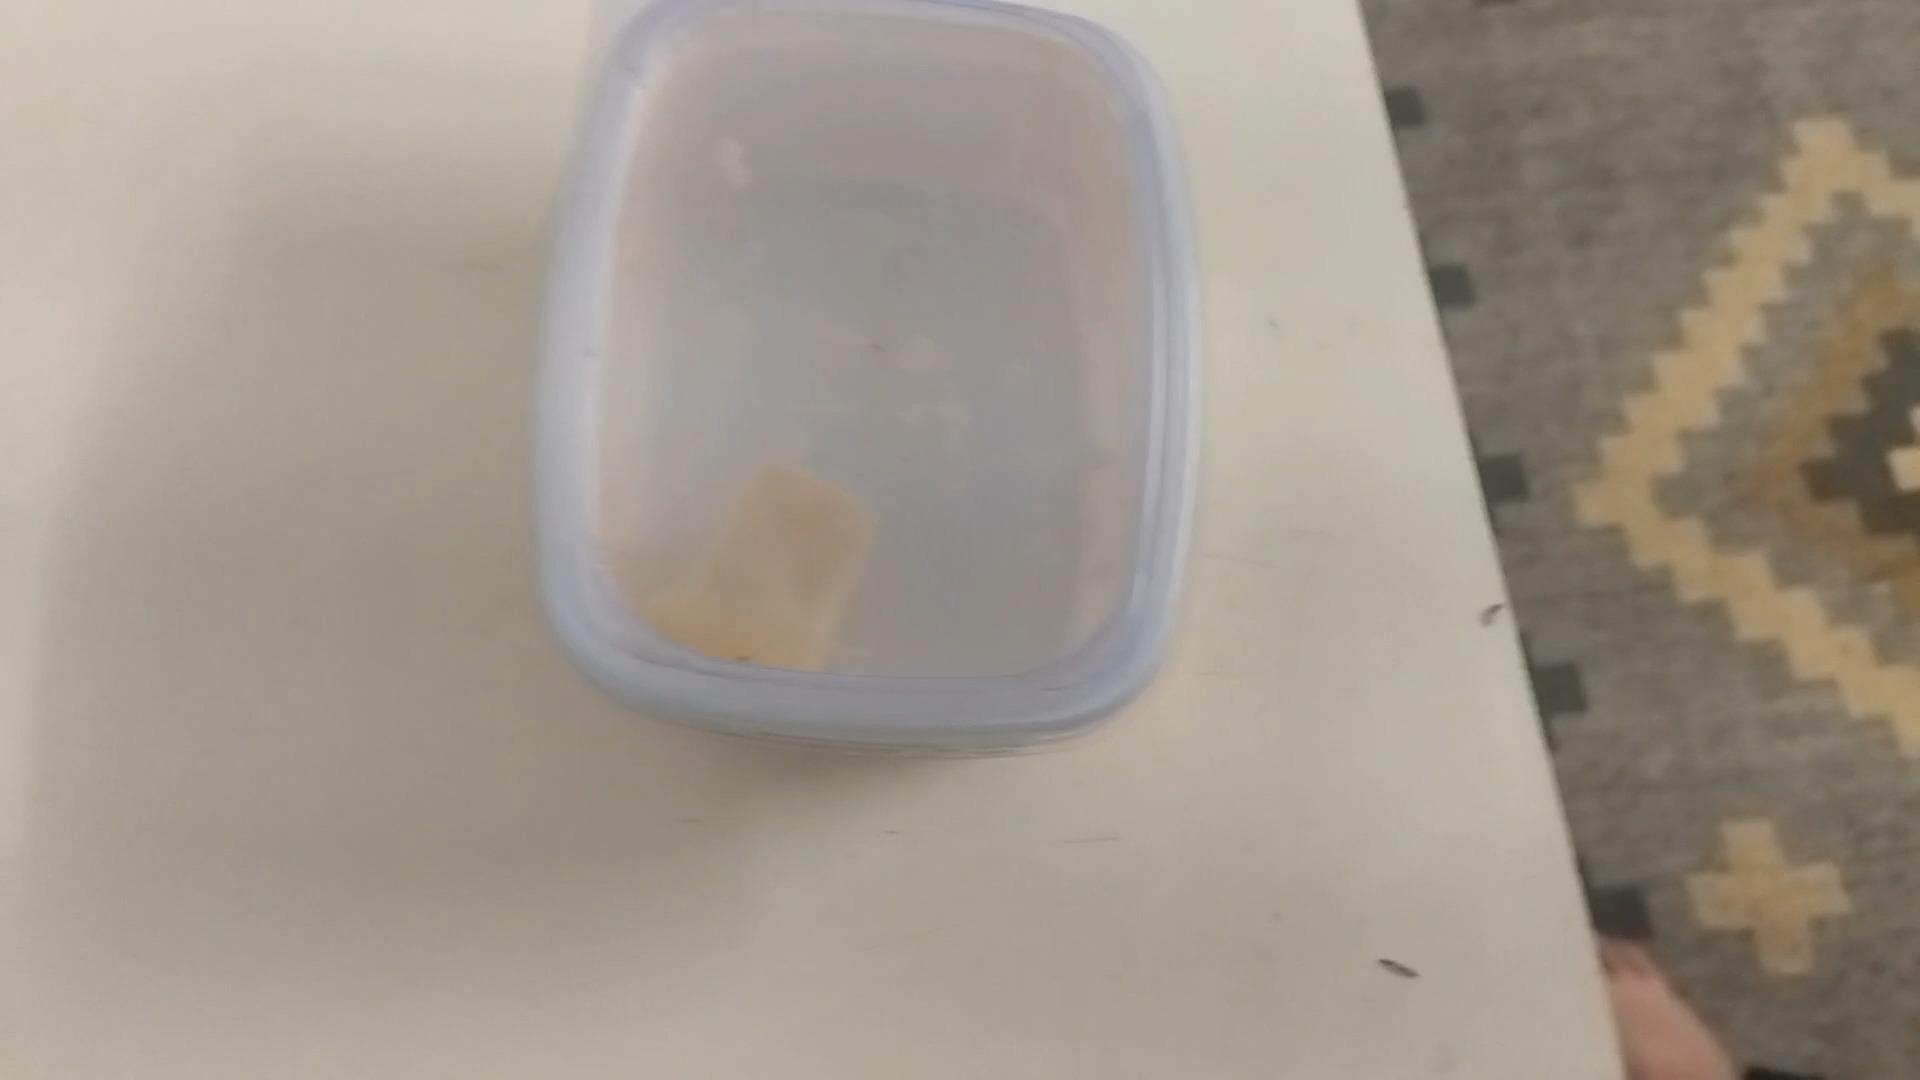butter: (544, 17, 1188, 753)
